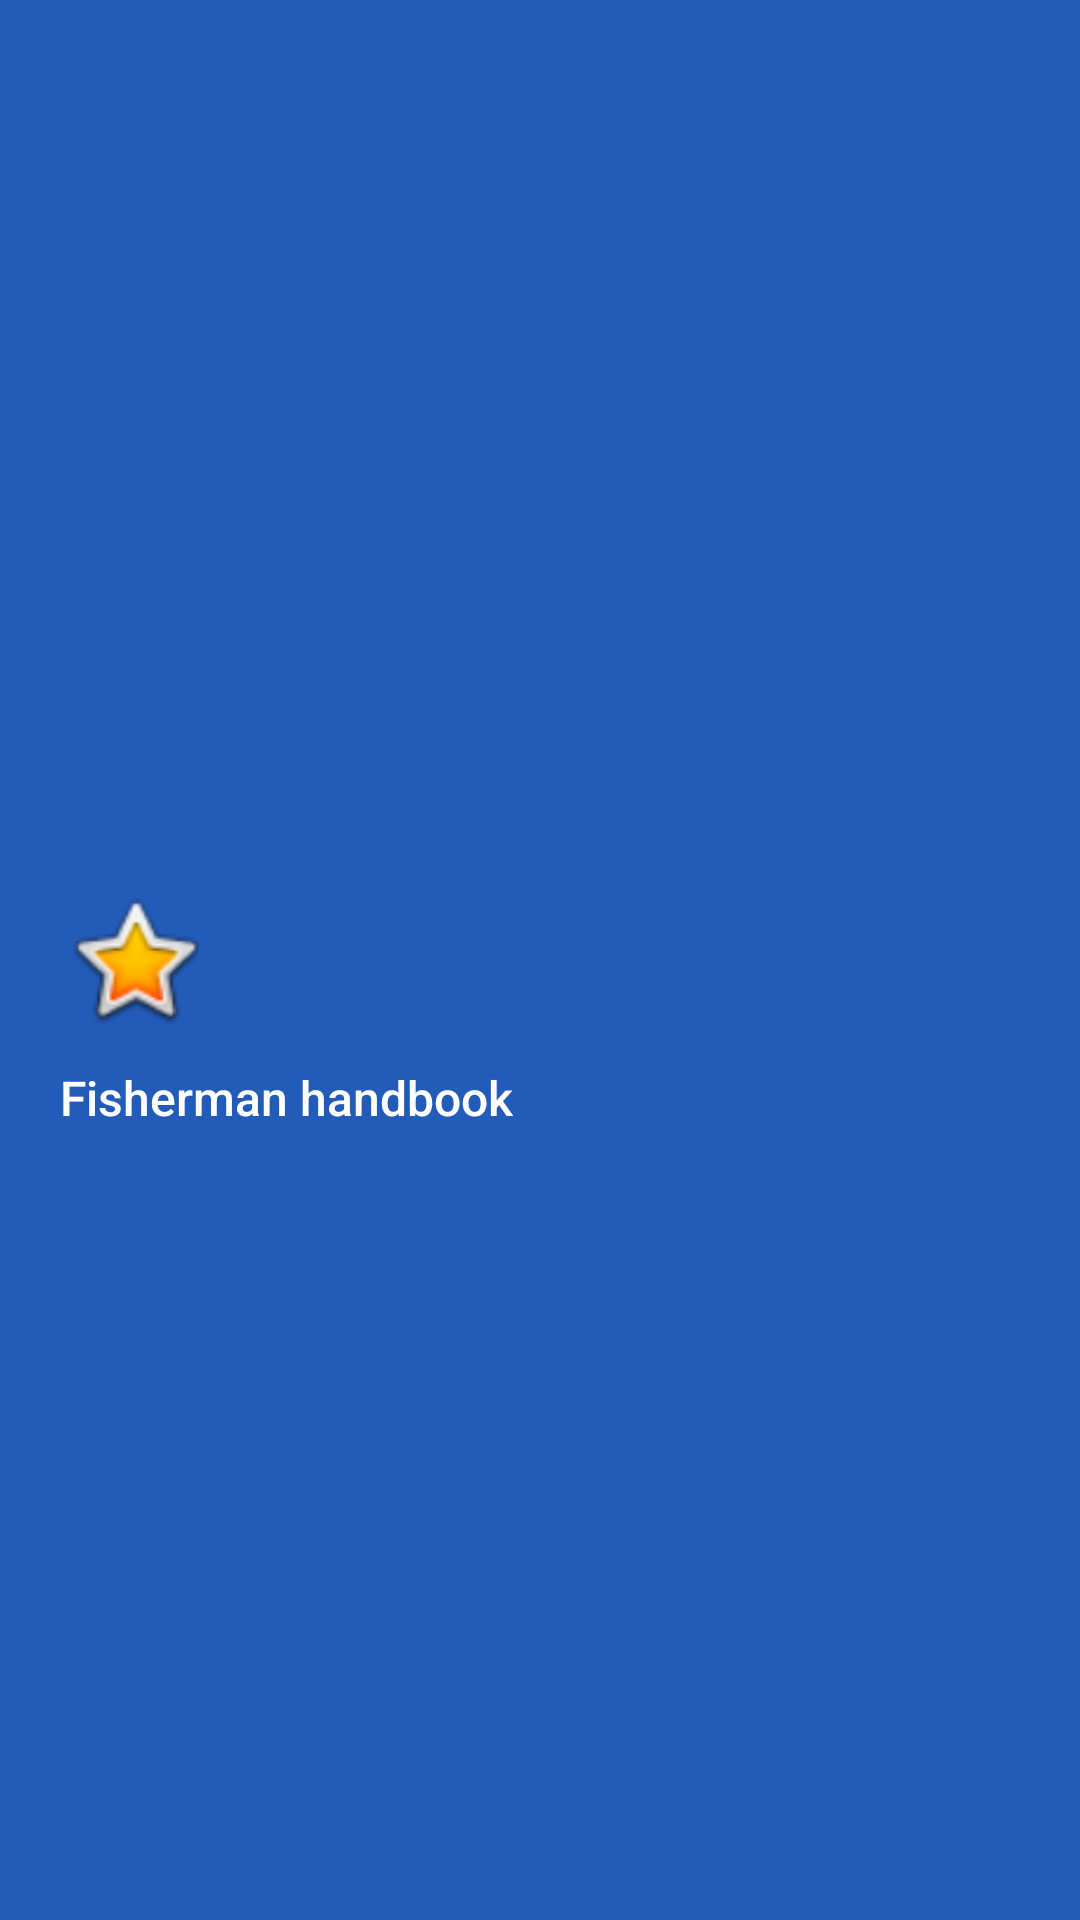

Named icons in this screenshot (1080w x 1920h) and their centers, [x,y]:
star on: [136,961]
